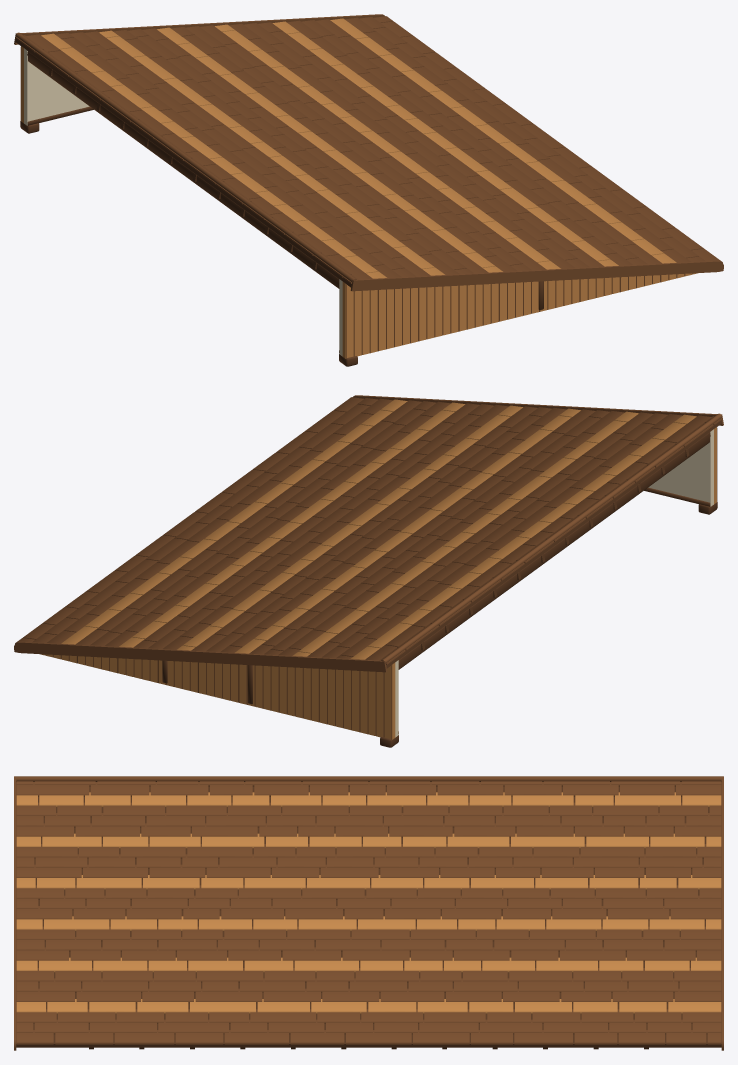
The model's file is ShopRoofCriadero.fbx.
3 renders of one model, top to bottom at view 1: azimuth 30°, elevation 25°; view 2: azimuth 150°, elevation 25°; view 3: azimuth 270°, elevation 25°, orthographic. The views are drawn at different scales.
Visible parts, largest first — view 1: ShopRoofCriadero; view 2: ShopRoofCriadero; view 3: ShopRoofCriadero.
Part boxes in pixels (bbox=[...]): ShopRoofCriadero: bbox=[14, 14, 723, 366]; ShopRoofCriadero: bbox=[14, 395, 723, 747]; ShopRoofCriadero: bbox=[14, 776, 723, 1050].
Bounding box in the file's own units: 10.15 × 2.38 × 15.91.
